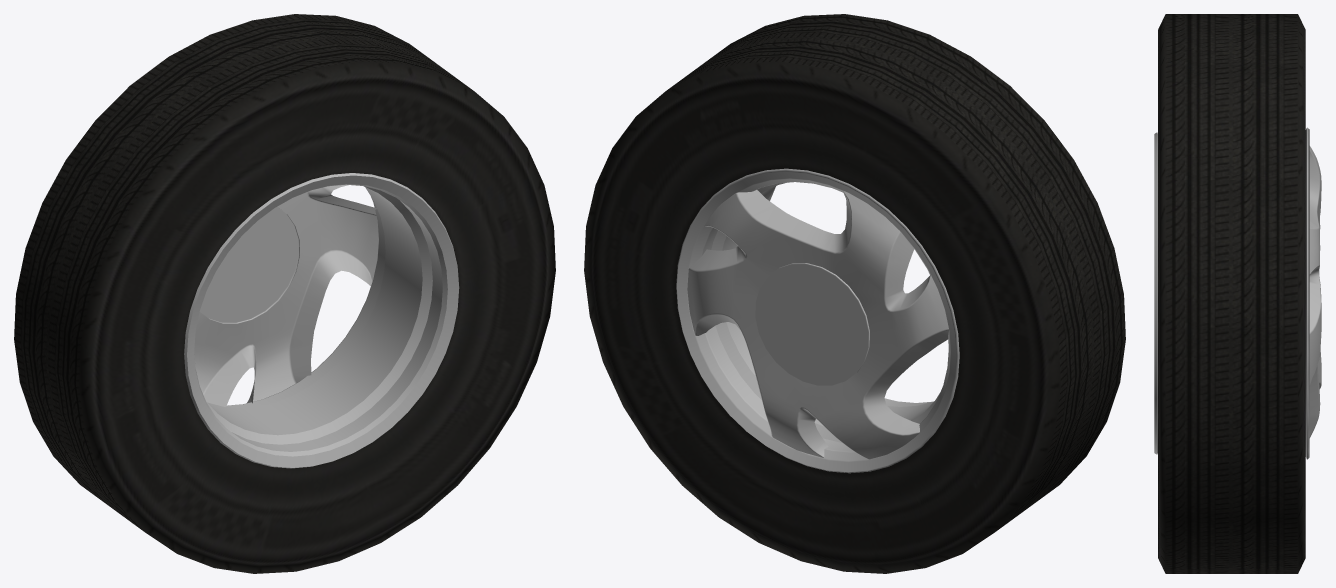
The picture shows the model from 3 angles, left to right: view 1: azimuth 30°, elevation 25°; view 2: azimuth 150°, elevation 25°; view 3: azimuth 270°, elevation 25°; orthographic projection.
Visible parts, largest first — view 1: H025_10_901B_L_1_DM_H025_10_901B_L, H025_10_901B_L_H025_10_901B_L_2_DaS; view 2: H025_10_901B_L_1_DM_H025_10_901B_L, H025_10_901B_L_H025_10_901B_L_2_DaS; view 3: H025_10_901B_L_1_DM_H025_10_901B_L, H025_10_901B_L_H025_10_901B_L_2_DaS.
Boxes of the visible parts, bbox=[...] form: H025_10_901B_L_1_DM_H025_10_901B_L: bbox=[14, 14, 555, 573]; H025_10_901B_L_H025_10_901B_L_2_DaS: bbox=[184, 173, 459, 468]; H025_10_901B_L_1_DM_H025_10_901B_L: bbox=[584, 14, 1125, 573]; H025_10_901B_L_H025_10_901B_L_2_DaS: bbox=[676, 168, 959, 473]; H025_10_901B_L_1_DM_H025_10_901B_L: bbox=[1158, 14, 1305, 573]; H025_10_901B_L_H025_10_901B_L_2_DaS: bbox=[1154, 127, 1321, 459].
Size of the model in its own units: 63.17 by 63.11 by 18.86.
